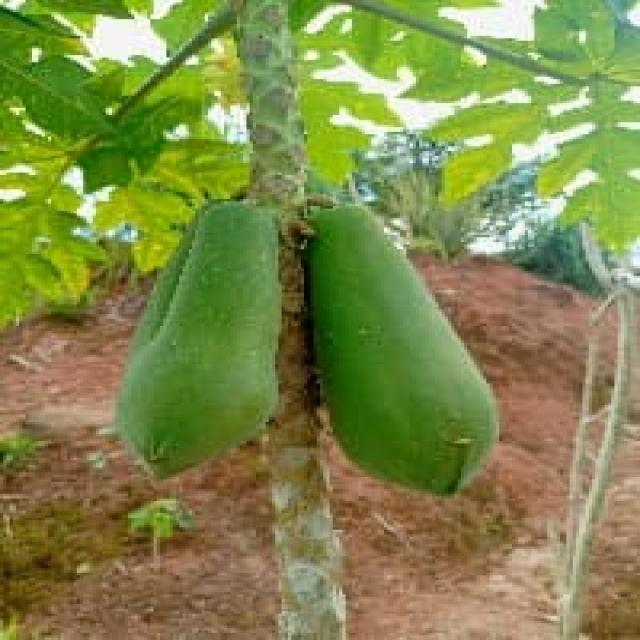Pepaya: (301, 199, 499, 496), (112, 196, 282, 479)
